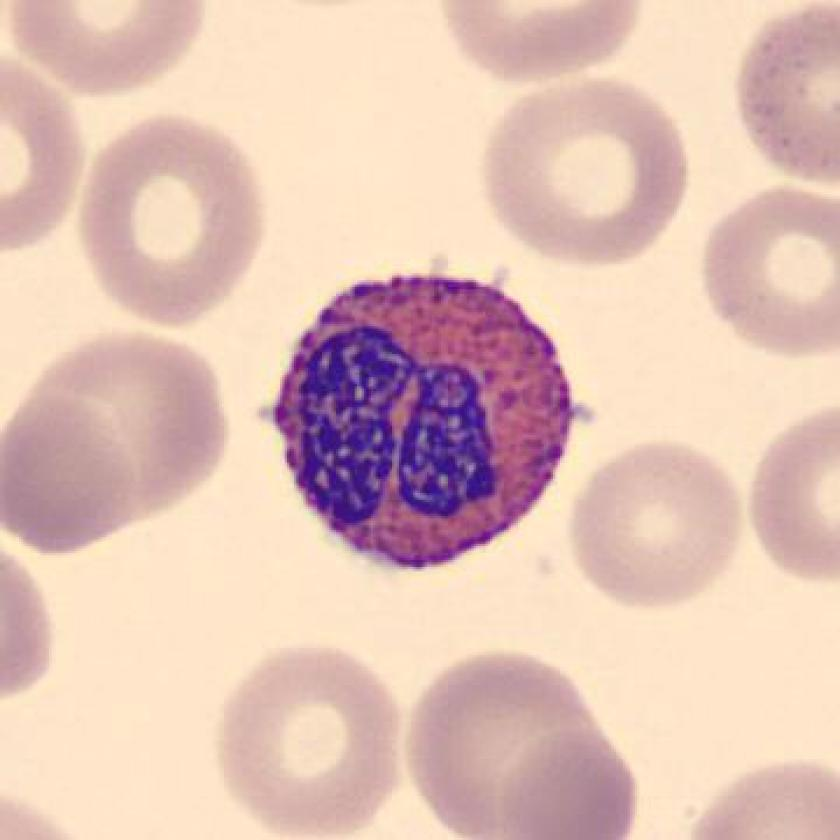eosinophil: (251, 253, 584, 582)
